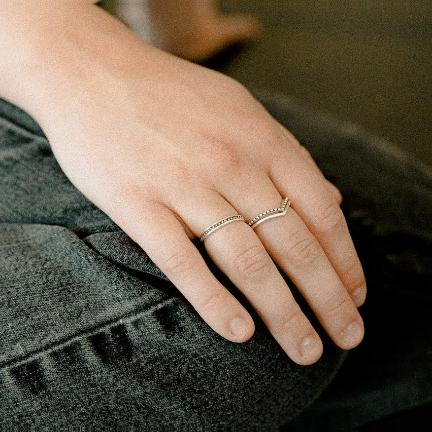Nail: (296, 333, 321, 361), (339, 319, 363, 348), (228, 314, 251, 341), (352, 282, 367, 305)
